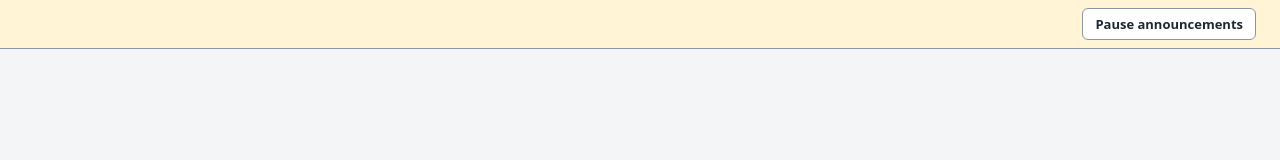
Test: pauses and plays with a visible button
Later steps or results of the test are not shown.
Click the button "Pause announcements": (1169, 24) [1082,8,1256,40]
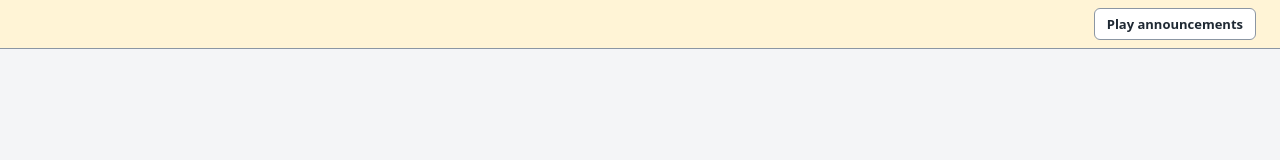
Check: the element with test id "broadcast-strip" has class "broadcast-strip--paused", box [0,0,1279,49]
Check: the button "Play announcements" is pressed, box [1094,8,1256,40]
